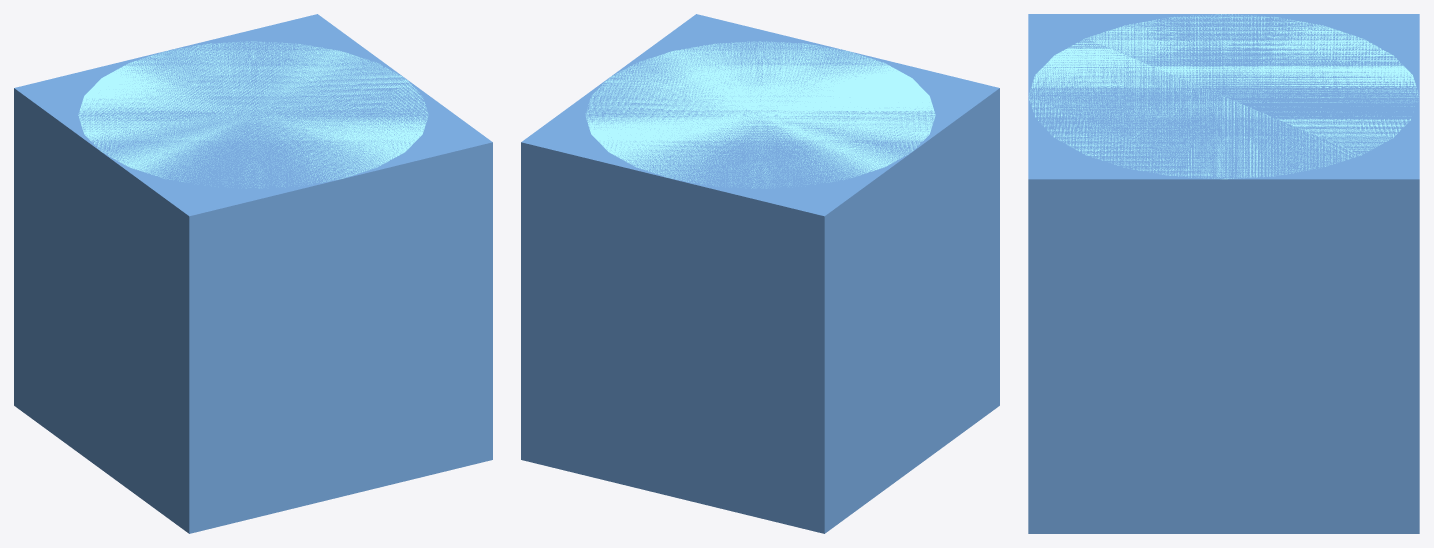
The picture shows the model from 3 angles, left to right: view 1: azimuth 30°, elevation 25°; view 2: azimuth 150°, elevation 25°; view 3: azimuth 270°, elevation 25°; orthographic projection. The views are drawn at different scales.
Parts seen in each view (by area): view 1: __objects__; view 2: __objects__; view 3: __objects__.
Boxes of the visible parts, bbox=[...] form: __objects__: bbox=[14, 14, 492, 533]; __objects__: bbox=[521, 14, 999, 533]; __objects__: bbox=[1028, 14, 1419, 533].
Bounding box in the file's own units: 20 × 20 × 20.
